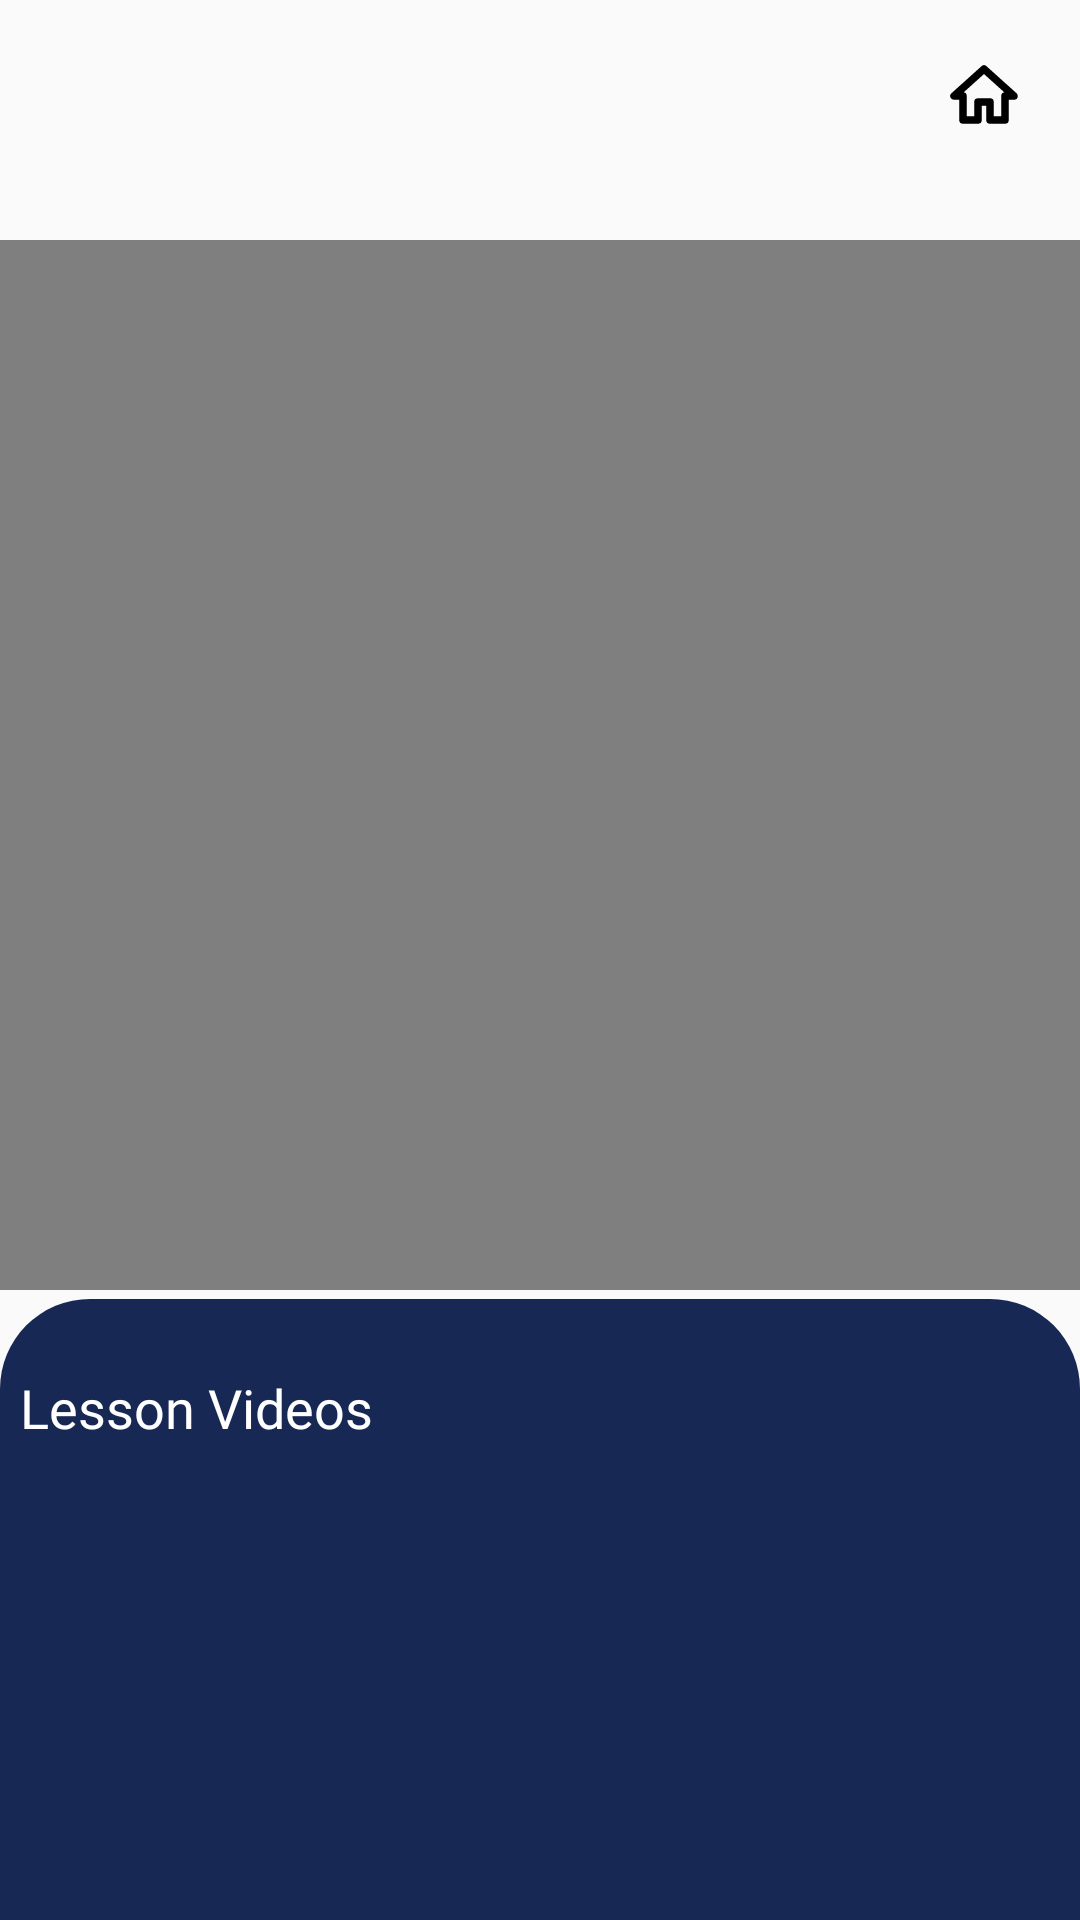

Where icons sit on this 1080x1920 app screen, as {"left": x1, "top": y1, "right": x2, "bottom": y2}:
home: {"left": 950, "top": 65, "right": 1018, "bottom": 124}
